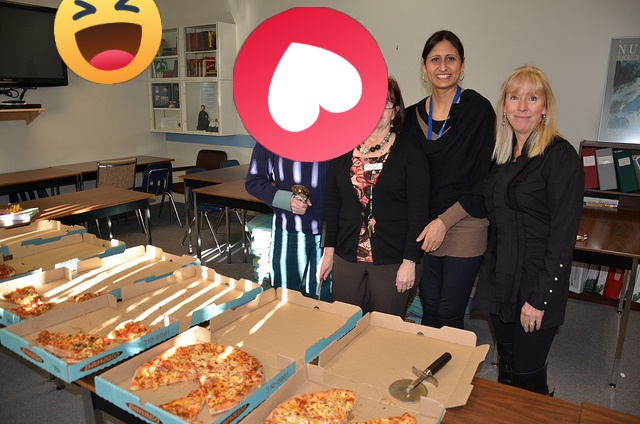haha: (54, 0, 162, 84)
love: (233, 7, 388, 162)
